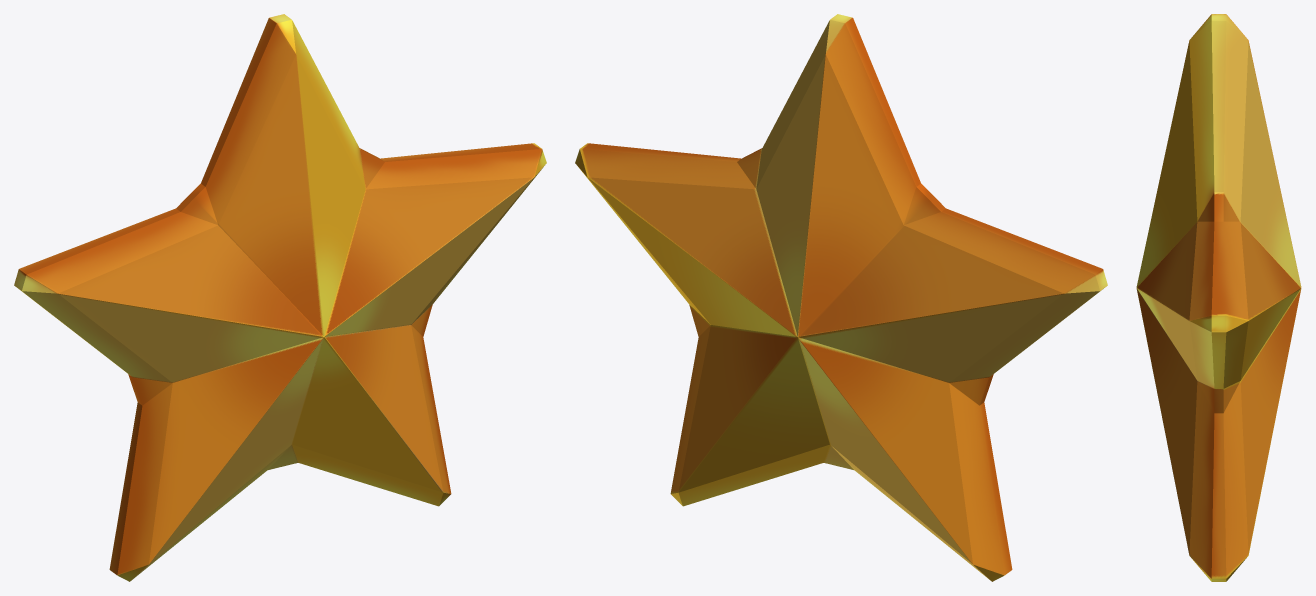
Rendered from Star01.fbx.
3 views of the same model, side by side, from view 1: azimuth 30°, elevation 25°; view 2: azimuth 150°, elevation 25°; view 3: azimuth 270°, elevation 25° (orthographic). The views are drawn at different scales.
Visible parts, largest first — view 1: Star01; view 2: Star01; view 3: Star01.
Part boxes in pixels (<box>): Star01: <box>14,14,546,581</box>; Star01: <box>575,14,1107,581</box>; Star01: <box>1136,14,1301,581</box>.
Bounding box in the file's own units: 1.82 × 1.73 × 0.5238.
